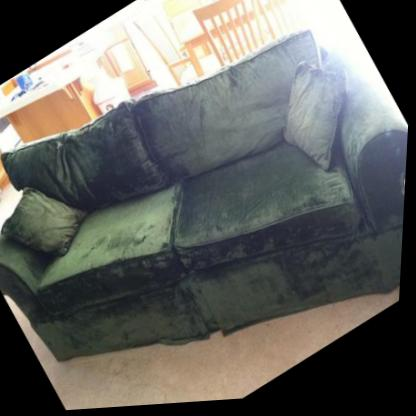Chair: (129, 0, 232, 102)
Sofa: (0, 0, 416, 416)
